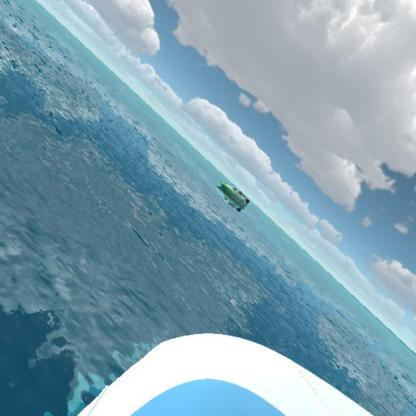usv0: (217, 175, 255, 211)
